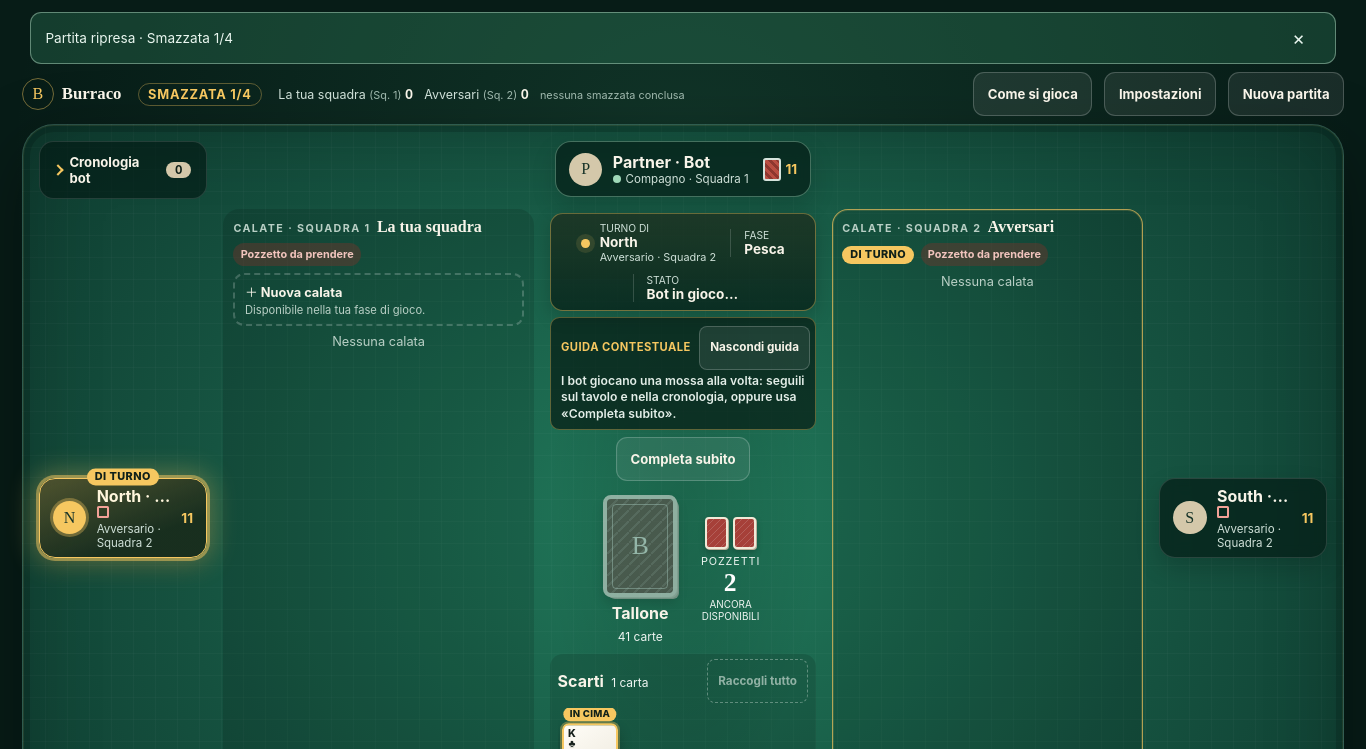
it: App M31 audio › offers labelled native mute and volume controls with the default state
This screenshot has width=1366, height=749.
Click the button "Impostazioni": (1160, 94) x1=1104 y1=72 x2=1216 y2=116
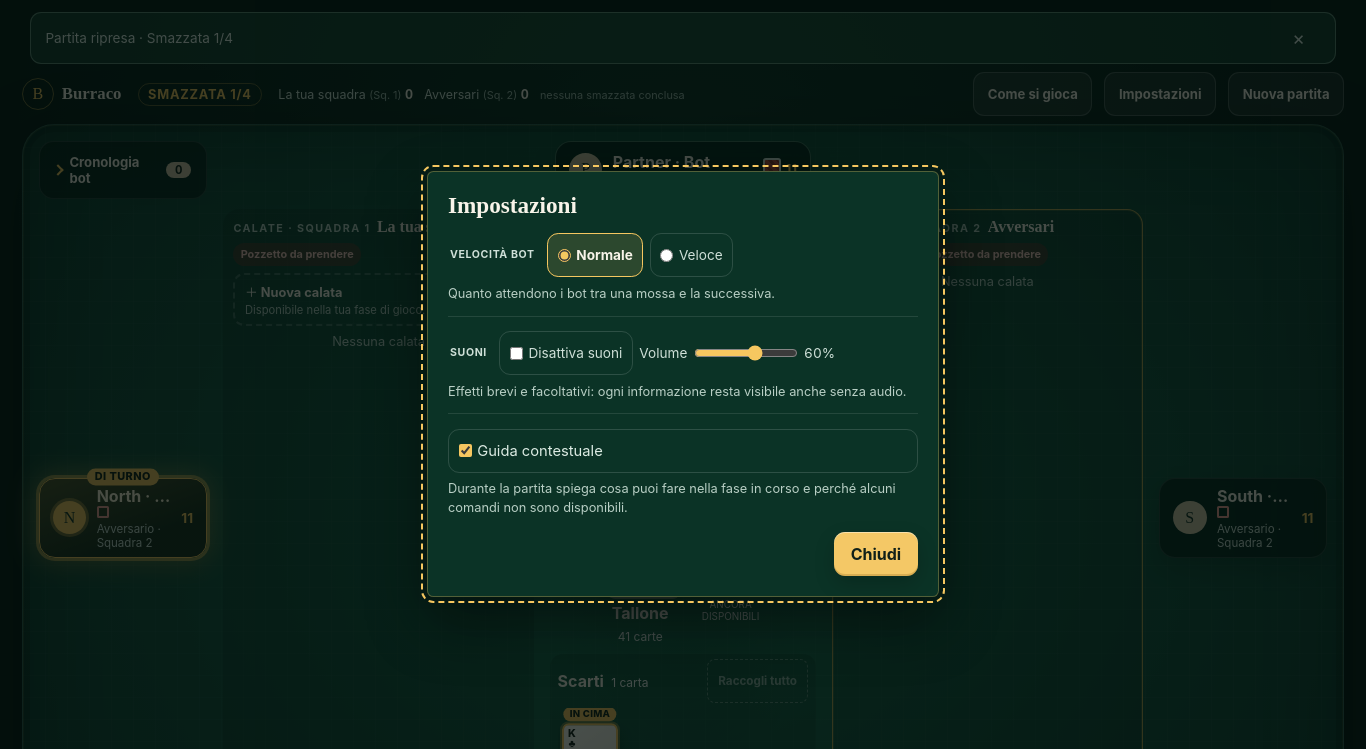
Expected: the checkbox labelled "Disattiva suoni" is not checked, x1=510 y1=347 x2=523 y2=360
Expected: the slider labelled "Volume" holds "60", x1=694 y1=331 x2=798 y2=375
